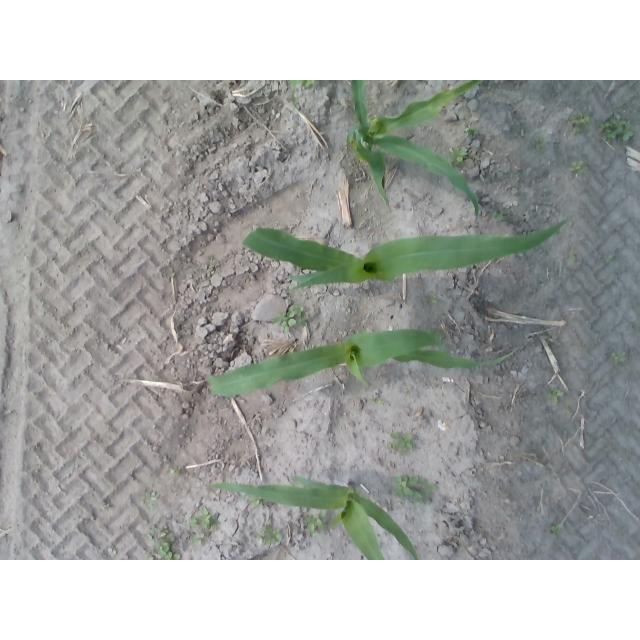Maize: (293, 80, 481, 222), (242, 220, 566, 293), (208, 328, 517, 397), (206, 476, 418, 560)
Weeds: (392, 475, 436, 503), (186, 507, 210, 528), (156, 544, 181, 561), (391, 433, 414, 451), (263, 527, 282, 546), (573, 113, 589, 134), (275, 312, 296, 326), (305, 515, 322, 532), (571, 160, 587, 176), (620, 121, 632, 141), (611, 114, 625, 130), (549, 389, 564, 403), (450, 150, 467, 162), (153, 526, 168, 539), (189, 532, 204, 544), (603, 130, 616, 142), (144, 491, 158, 502), (613, 353, 625, 364), (534, 138, 544, 151), (465, 127, 476, 138), (600, 123, 611, 134), (494, 211, 506, 221), (293, 305, 304, 315), (142, 502, 154, 511), (281, 323, 290, 334), (250, 496, 261, 505), (210, 255, 217, 269), (297, 318, 307, 327), (167, 534, 175, 543), (550, 526, 558, 534), (108, 548, 117, 555), (570, 252, 577, 261), (170, 469, 180, 475), (604, 255, 612, 262), (432, 295, 437, 304), (380, 399, 385, 405), (148, 534, 153, 539)
